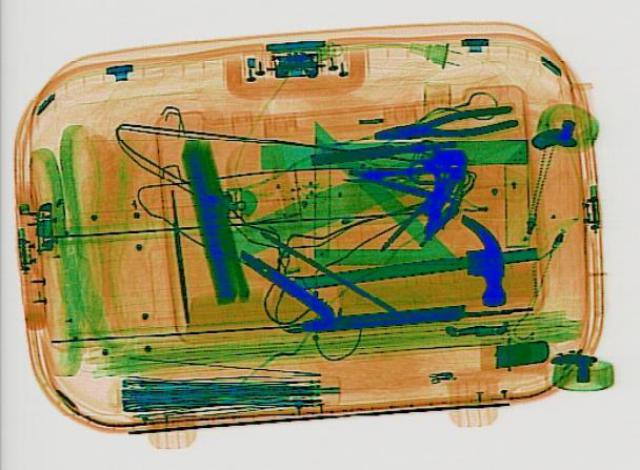Pliers: (369, 101, 518, 144)
